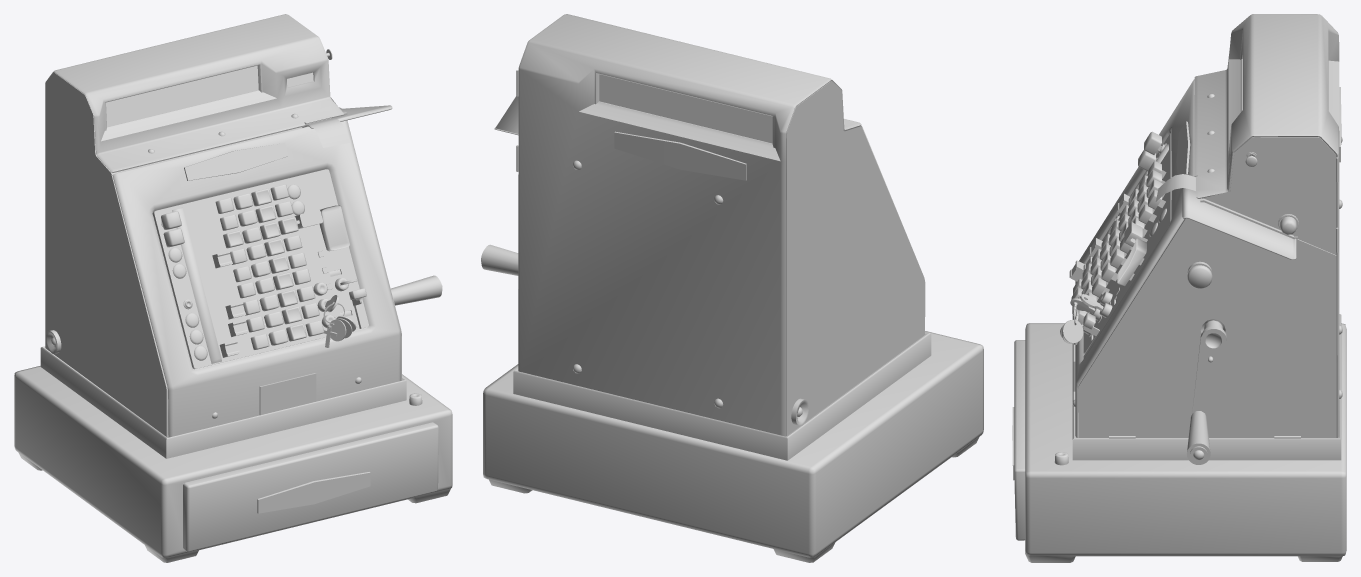
File: Cash Register.glb
The picture shows the model from 3 angles, left to right: view 1: azimuth 30°, elevation 25°; view 2: azimuth 150°, elevation 25°; view 3: azimuth 270°, elevation 25°; orthographic projection. The views are drawn at different scales.
Parts seen in each view (by area): view 1: CashRegister_011_drawer; view 2: CashRegister_011_drawer; view 3: CashRegister_011_drawer.
Part boxes in pixels (<box>): CashRegister_011_drawer: <box>14,14,452,562</box>; CashRegister_011_drawer: <box>481,14,983,562</box>; CashRegister_011_drawer: <box>1012,14,1346,562</box>.
Size of the model in its own units: 0.6005 by 0.6214 by 0.4534.
2 materials, 1 textured.
